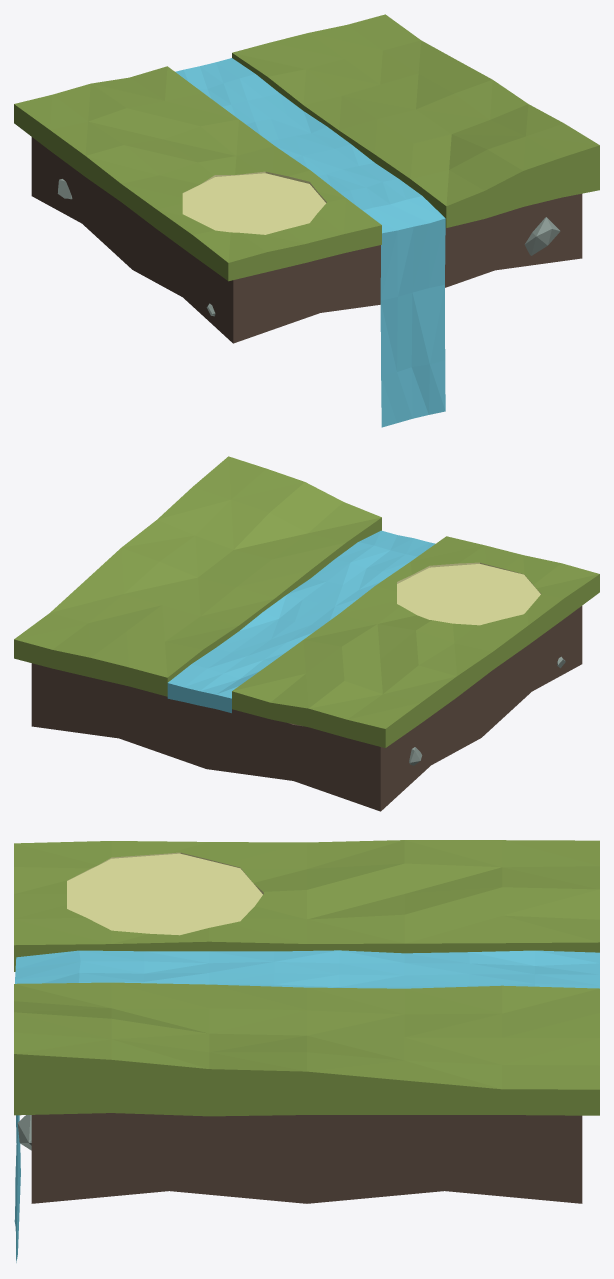
File: world-forest.fbx
The picture shows the model from 3 angles, top to bottom: view 1: azimuth 30°, elevation 25°; view 2: azimuth 150°, elevation 25°; view 3: azimuth 270°, elevation 25°; orthographic projection. The views are drawn at different scales.
Parts seen in each view (by area): view 1: nature_terrain, nature_terrain.001, Icosphere; view 2: nature_terrain, nature_terrain.001; view 3: nature_terrain, nature_terrain.001.
Part boxes in pixels (x1=…): nature_terrain: x1=14, y1=14, x2=599, y2=343; nature_terrain.001: x1=175, y1=58, x2=445, y2=427; Icosphere: x1=57, y1=179, x2=560, y2=316; nature_terrain: x1=14, y1=456, x2=599, y2=811; nature_terrain.001: x1=167, y1=530, x2=435, y2=713; nature_terrain: x1=14, y1=840, x2=599, y2=1203; nature_terrain.001: x1=14, y1=950, x2=599, y2=1262.
Size of the model in its own units: 2000 by 1180 by 2000.
